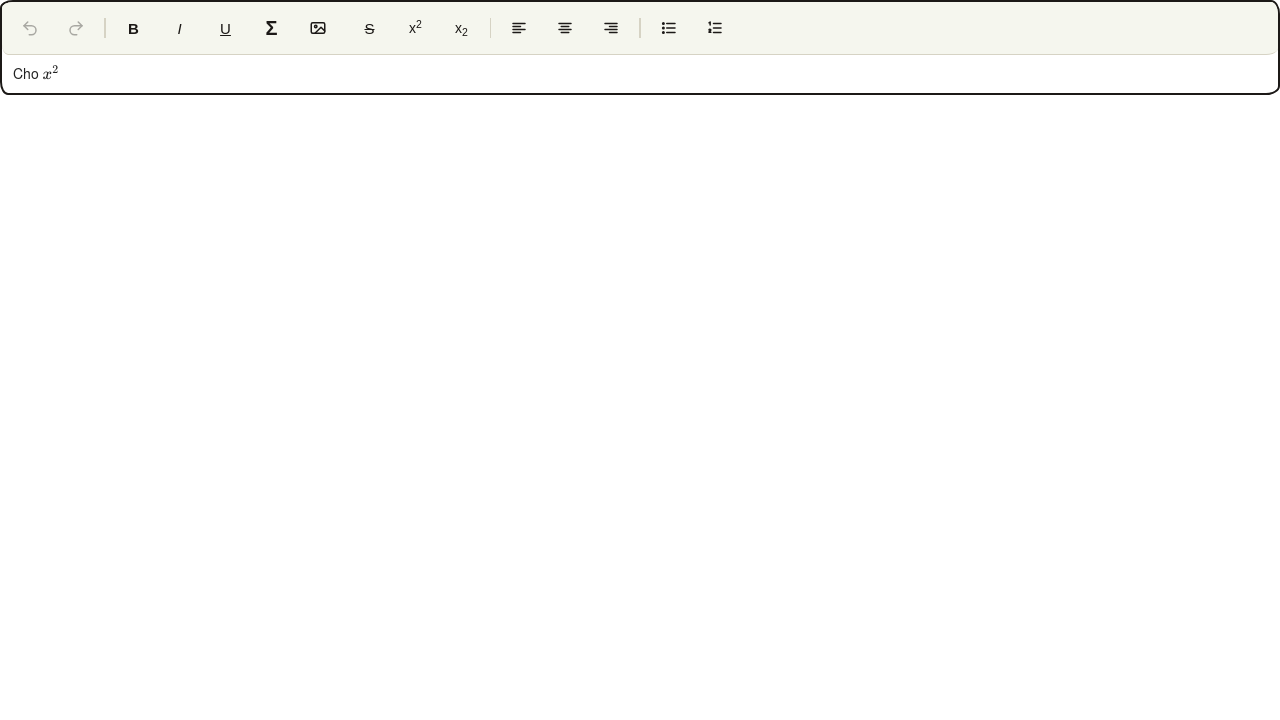
Test: Editor toolbar variants (DS-Editor) › teacher: clicking a formula imported from Word reopens the keyboard on it
The image size is (1280, 720).
Click the button "x": point(51, 73) left=43, top=63, right=59, bottom=83
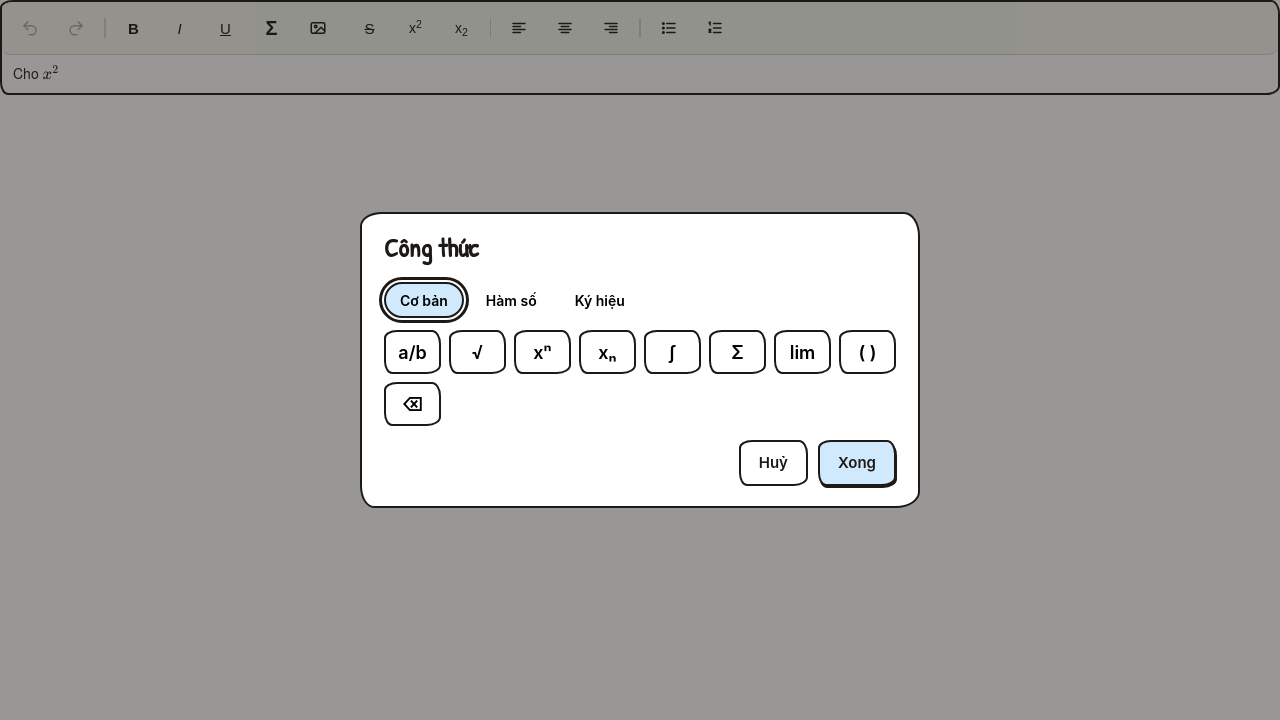
Now the dialog "Công thức" is shown, box left=360, top=212, right=920, bottom=508
